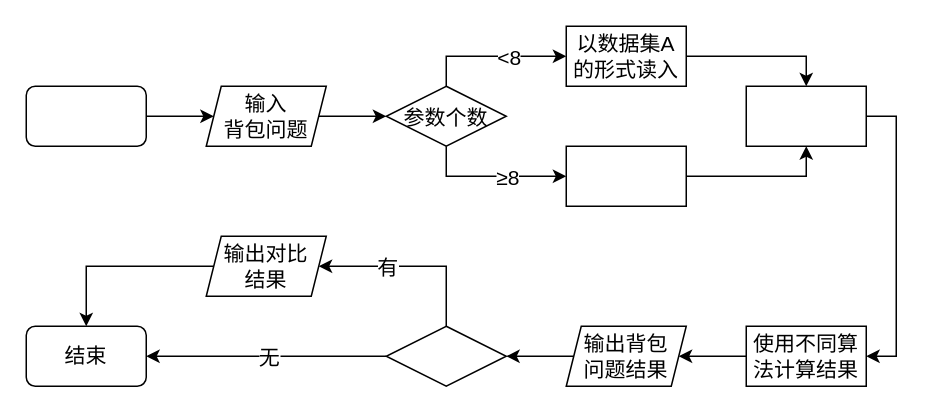
This 935x413 diagram has some shape labels left out. Each missing label, with the centre of its shape:
"以数据集B的形式读入" belongs at point (625, 175).
"参考答案" belongs at point (445, 355).
"开始" belongs at point (85, 115).
"按平均价值排序" belongs at point (805, 115).
